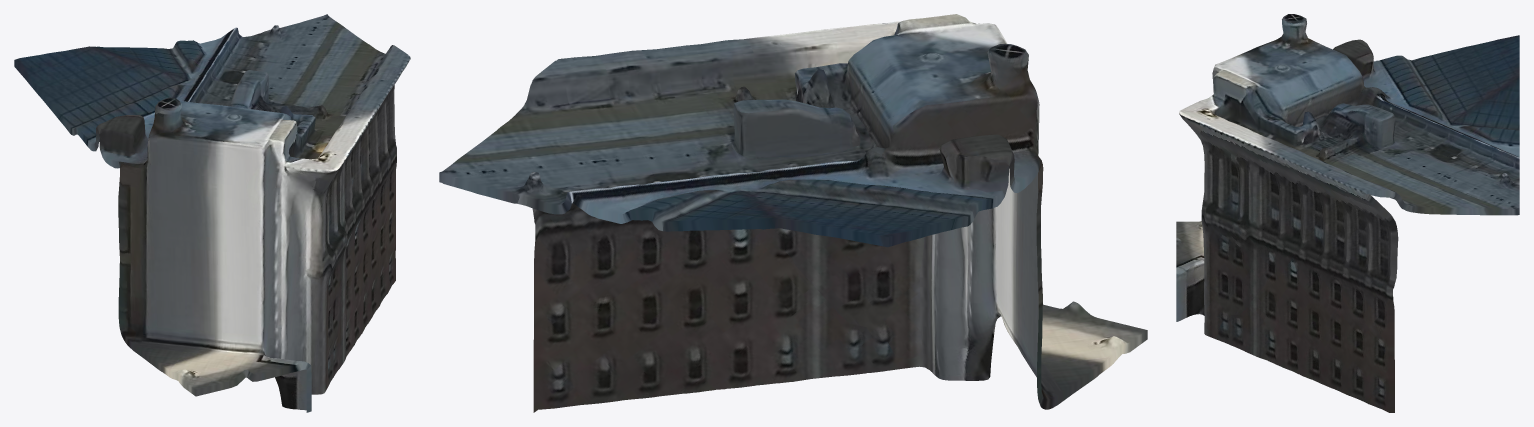
Rendered from z20-167788-405226-h1-yup-uvflip-v3-world.glb.
3 views of the same model, side by side, from view 1: azimuth 30°, elevation 25°; view 2: azimuth 150°, elevation 25°; view 3: azimuth 270°, elevation 25° (orthographic). The views are drawn at different scales.
Size of the model in its own units: 30.16 by 26.08 by 30.32.
1 material, 1 textured.
